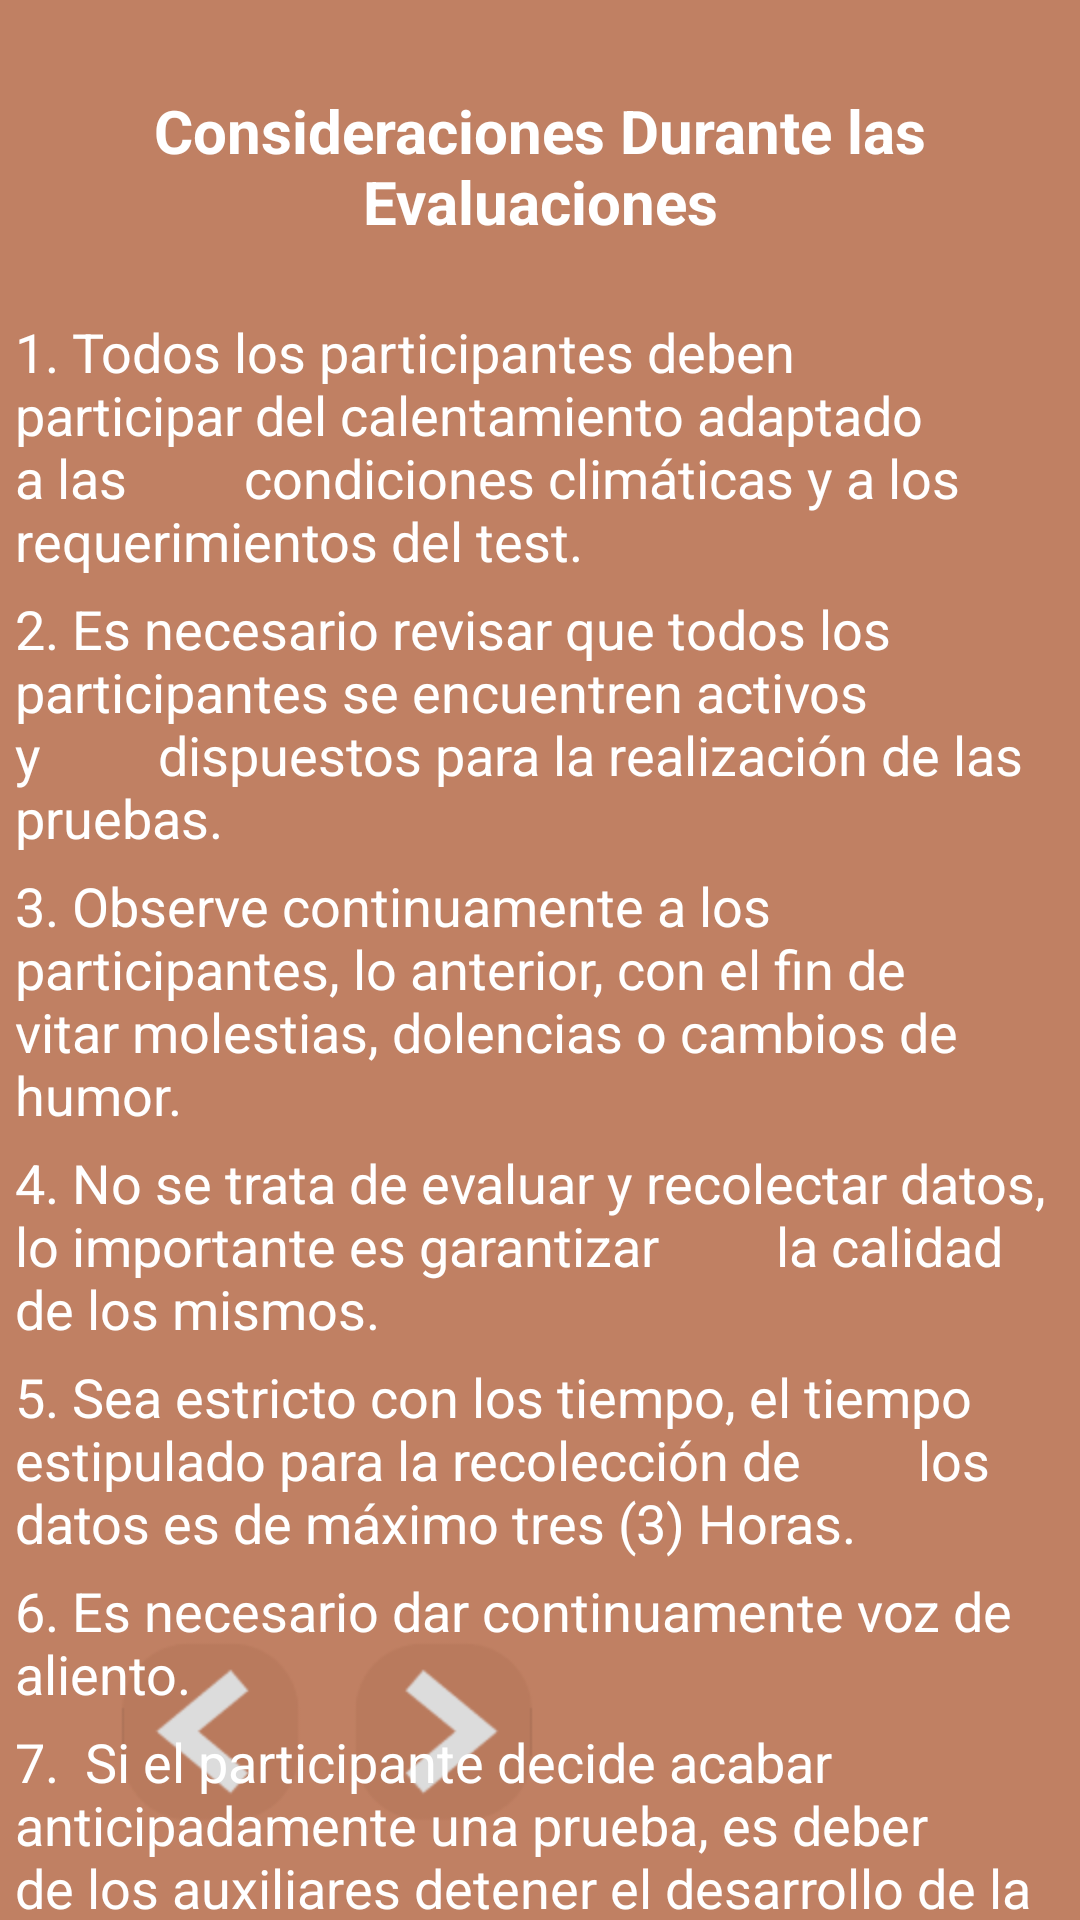

Screen size 1080 × 1920. Icon name, then its center in pixels as (x,y):
regresar: (212,1736)
seguir: (432,1732)
